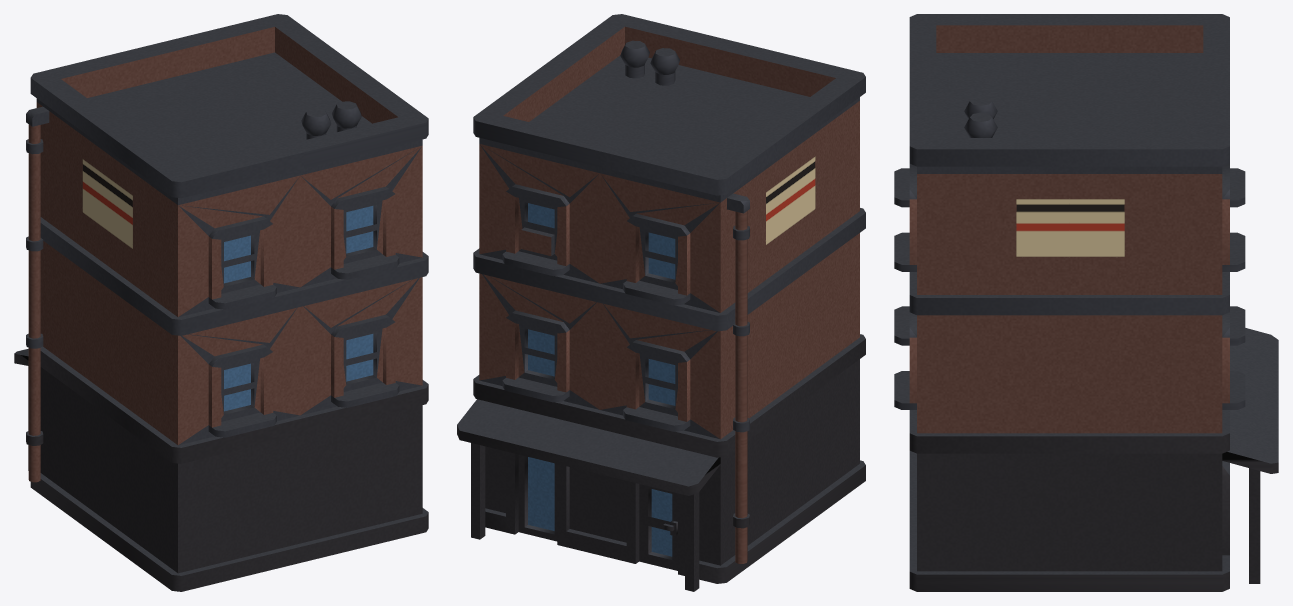
File: building-h-brown.glb
The picture shows the model from 3 angles, left to right: view 1: azimuth 30°, elevation 25°; view 2: azimuth 150°, elevation 25°; view 3: azimuth 270°, elevation 25°; orthographic projection. The views are drawn at different scales.
Parts seen in each view (by area): view 1: building-h-brown; view 2: building-h-brown; view 3: building-h-brown.
Boxes of the visible parts, box(x1,y1,x2,y2) form: building-h-brown: box(14, 14, 428, 591); building-h-brown: box(457, 14, 865, 591); building-h-brown: box(894, 14, 1278, 591).
Size of the model in its own units: 0.8836 by 1.29 by 1.01.
Materials: 1 (1 with a texture image).
